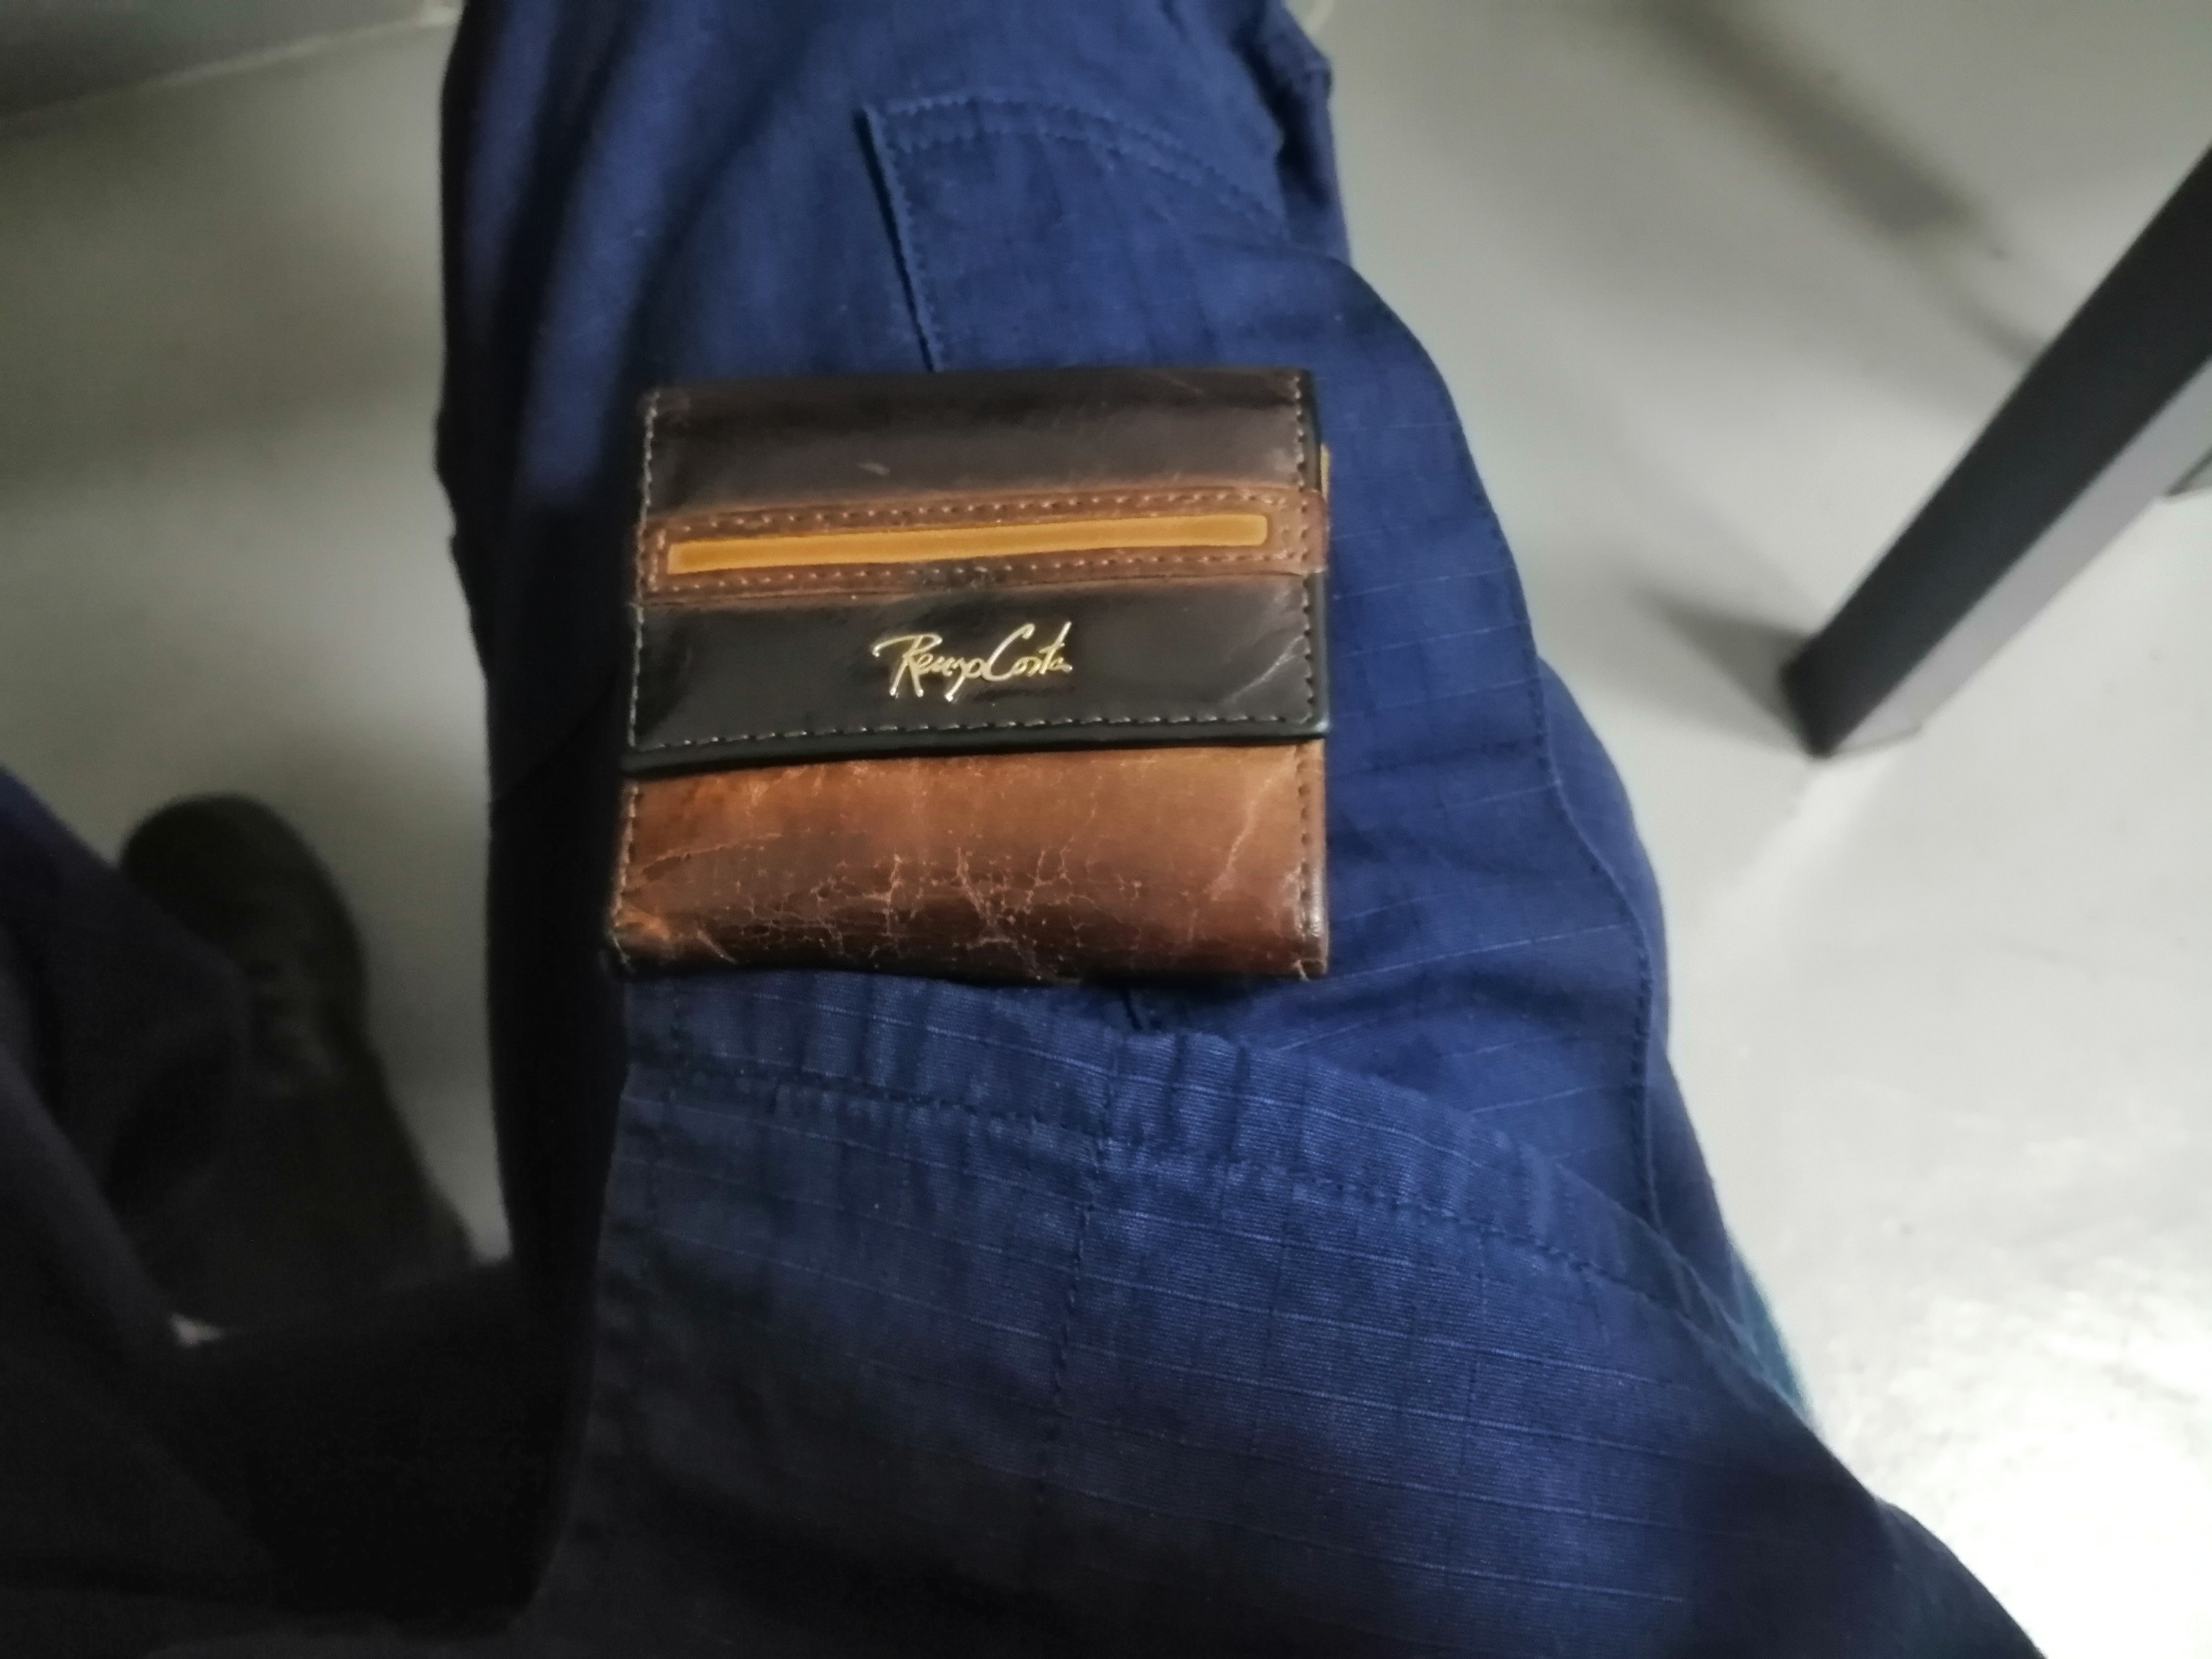monedero: (573, 340, 1388, 1046)
